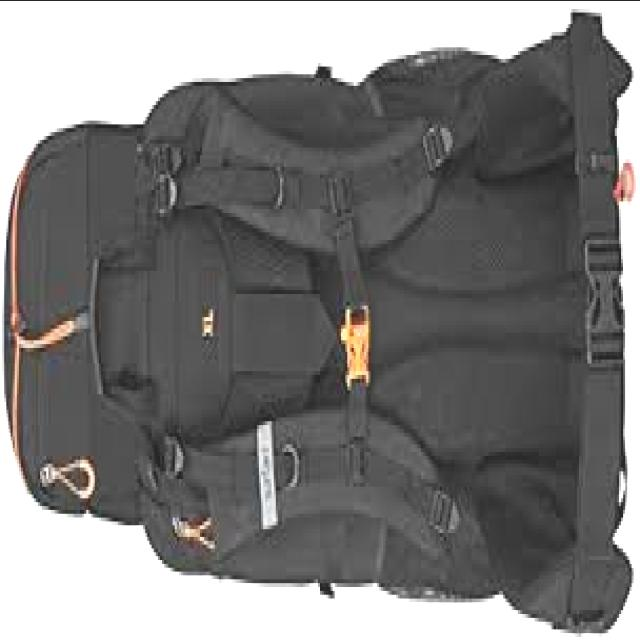backpack: (3, 13, 633, 637)
